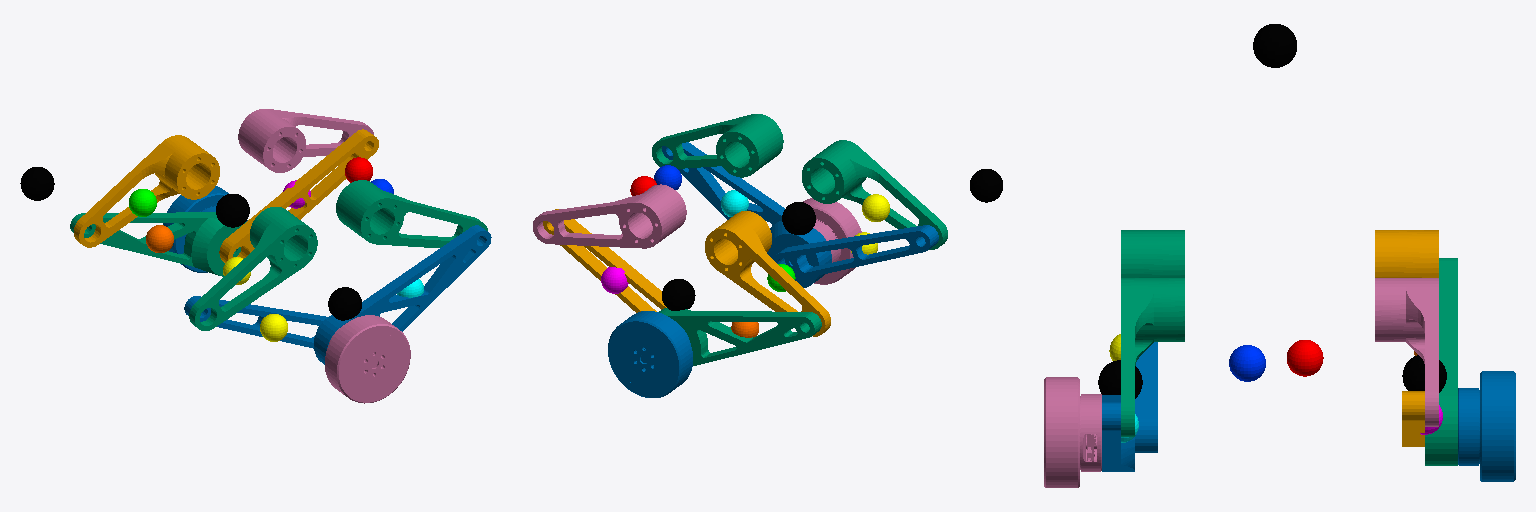
URDF robot description (wheel_leg_robot):
<?xml version="1.0"?>
<robot name="wheel_leg_robot">

  <!-- ================= materials ================= -->
  <material name="base_gray">
    <color rgba="0.65 0.65 0.65 1"/>
  </material>

  <material name="label_red">
    <color rgba="1 0 0 1"/>
  </material>

  <material name="label_green">
    <color rgba="0 1 0 1"/>
  </material>

  <material name="label_blue">
    <color rgba="0 0.25 1 1"/>
  </material>

  <material name="label_yellow">
    <color rgba="1 1 0 1"/>
  </material>

  <material name="label_magenta">
    <color rgba="1 0 1 1"/>
  </material>

  <material name="label_cyan">
    <color rgba="0 1 1 1"/>
  </material>

  <material name="label_orange">
    <color rgba="1 0.45 0 1"/>
  </material>

  <material name="label_black">
    <color rgba="0.02 0.02 0.02 1"/>
  </material>


  <!-- ================= world ================= -->
<!-- ================= base ================= -->
  <link name="base_link">
    <visual>
      <origin xyz="0 0 0" rpy="0 1.5708 0"/>
      <geometry>
        <mesh filename="package://wheel_leg_description/meshes/visual/shell_and_big_motor.stl"
              scale="0.001 0.001 0.001"/>
      </geometry>
      <material name="base_gray"/>
    </visual>
  </link>
<!-- base label -->
  <link name="LABEL_0_BASE">
    <visual>
      <geometry>
        <sphere radius="0.012"/>
      </geometry>
      <material name="label_black"/>
    </visual>
  </link>

  <joint name="label_0_base_joint" type="fixed">
    <parent link="base_link"/>
    <child link="LABEL_0_BASE"/>
    <origin xyz="0 0 0.080" rpy="0 0 0"/>
  </joint>


  <!-- ========================================================= -->
  <!-- big_arm_1_joint: blue big arm -> cyan small_leg_wheel_2 -> wheel_motor_2 -->
  <!-- ========================================================= -->

  <link name="big_arm_1_link">
    <visual>
      <origin xyz="-0.231306 -0.053564 -0.030643" rpy="0 1.5708 0"/>
      <geometry>
        <mesh filename="package://wheel_leg_description/meshes/visual/big_arm_1.stl"
              scale="0.001 0.001 0.001"/>
      </geometry>
    </visual>
  </link>

  <joint name="big_arm_1_joint" type="revolute">
    <parent link="base_link"/>
    <child link="big_arm_1_link"/>
    <origin xyz="0.231306 0.053564 0.030643" rpy="0 0 0"/>
    <axis xyz="0 1 0"/>
    <limit lower="-1.57" upper="1.57" effort="20" velocity="10"/>
  </joint>

  <link name="LABEL_1_BLUE_BIG_ARM">
    <visual>
      <geometry>
        <sphere radius="0.010"/>
      </geometry>
      <material name="label_blue"/>
    </visual>
  </link>

  <joint name="label_1_blue_big_arm_joint" type="fixed">
    <parent link="big_arm_1_link"/>
    <child link="LABEL_1_BLUE_BIG_ARM"/>
    <origin xyz="0.037350 -0.068500 -0.014319" rpy="0 0 0"/>
  </joint>


  <link name="small_leg_wheel_2_link">
    <visual>
      <origin xyz="-0.306005 0.083436 -0.002006" rpy="0 1.5708 0"/>
      <geometry>
        <mesh filename="package://wheel_leg_description/meshes/visual/small_leg_wheel_2.stl"
              scale="0.001 0.001 0.001"/>
      </geometry>
    </visual>
  </link>

  <joint name="knee_1_joint" type="revolute">
    <parent link="big_arm_1_link"/>
    <child link="small_leg_wheel_2_link"/>
    <origin xyz="0.074699 -0.137000 -0.028637" rpy="0 0 0"/>
    <axis xyz="0 1 0"/>
    <limit lower="-2.5" upper="2.5" effort="20" velocity="10"/>
  </joint>

  <link name="LABEL_6_CYAN_SMALL_LEG_WHEEL">
    <visual>
      <geometry>
        <sphere radius="0.010"/>
      </geometry>
      <material name="label_cyan"/>
    </visual>
  </link>

  <joint name="label_6_cyan_small_leg_wheel_joint" type="fixed">
    <parent link="small_leg_wheel_2_link"/>
    <child link="LABEL_6_CYAN_SMALL_LEG_WHEEL"/>
    <origin xyz="-0.052399 0 -0.029230" rpy="0 0 0"/>
  </joint>


  <link name="wheel_motor_2_link">
    <visual>
      <origin xyz="-0.201207 0.083436 0.056453" rpy="0 1.5708 0"/>
      <geometry>
        <mesh filename="package://wheel_leg_description/meshes/visual/wheel_motor_2.stl"
              scale="0.001 0.001 0.001"/>
      </geometry>
    </visual>
  </link>

  <joint name="wheel_2_joint" type="continuous">
    <parent link="small_leg_wheel_2_link"/>
    <child link="wheel_motor_2_link"/>
    <origin xyz="-0.104798 0 -0.058459" rpy="0 0 0"/>
    <axis xyz="0 1 0"/>
  </joint>

  <link name="LABEL_10_BLACK_WHEEL_MOTOR">
    <visual>
      <geometry>
        <sphere radius="0.012"/>
      </geometry>
      <material name="label_black"/>
    </visual>
  </link>

  <joint name="label_10_black_wheel_motor_joint" type="fixed">
    <parent link="wheel_motor_2_link"/>
    <child link="LABEL_10_BLACK_WHEEL_MOTOR"/>
    <origin xyz="0 0 0.030" rpy="0 0 0"/>
  </joint>


  <!-- ========================================================= -->
  <!-- big_arm_2_joint: green big arm -> orange small_leg_wheel_1 -> wheel_motor_1 -->
  <!-- ========================================================= -->

  <link name="big_arm_2_link">
    <visual>
      <origin xyz="-0.161440 -0.053564 -0.026313" rpy="0 1.5708 0"/>
      <geometry>
        <mesh filename="package://wheel_leg_description/meshes/visual/big_arm_2.stl"
              scale="0.001 0.001 0.001"/>
      </geometry>
    </visual>
  </link>

  <joint name="big_arm_2_joint" type="revolute">
    <parent link="base_link"/>
    <child link="big_arm_2_link"/>
    <origin xyz="0.161440 0.053564 0.026313" rpy="0 0 0"/>
    <axis xyz="0 1 0"/>
    <limit lower="-1.57" upper="1.57" effort="20" velocity="10"/>
  </joint>

  <link name="LABEL_2_GREEN_BIG_ARM">
    <visual>
      <geometry>
        <sphere radius="0.010"/>
      </geometry>
      <material name="label_green"/>
    </visual>
  </link>

  <joint name="label_2_green_big_arm_joint" type="fixed">
    <parent link="big_arm_2_link"/>
    <child link="LABEL_2_GREEN_BIG_ARM"/>
    <origin xyz="-0.035071 0.017500 -0.019237" rpy="0 0 0"/>
  </joint>


  <link name="small_leg_wheel_1_link">
    <visual>
      <origin xyz="-0.091299 -0.088564 0.012160" rpy="0 1.5708 0"/>
      <geometry>
        <mesh filename="package://wheel_leg_description/meshes/visual/small_leg_wheel_1.stl"
              scale="0.001 0.001 0.001"/>
      </geometry>
    </visual>
  </link>

  <joint name="knee_2_joint" type="revolute">
    <parent link="big_arm_2_link"/>
    <child link="small_leg_wheel_1_link"/>
    <origin xyz="-0.070141 0.035000 -0.038473" rpy="0 0 0"/>
    <axis xyz="0 1 0"/>
    <limit lower="-2.5" upper="2.5" effort="20" velocity="10"/>
  </joint>

  <link name="LABEL_5_ORANGE_SMALL_LEG_WHEEL">
    <visual>
      <geometry>
        <sphere radius="0.010"/>
      </geometry>
      <material name="label_orange"/>
    </visual>
  </link>

  <joint name="label_5_orange_small_leg_wheel_joint" type="fixed">
    <parent link="small_leg_wheel_1_link"/>
    <child link="LABEL_5_ORANGE_SMALL_LEG_WHEEL"/>
    <origin xyz="0.056761 -0.004000 -0.019449" rpy="0 0 0"/>
  </joint>


  <link name="wheel_motor_1_link">
    <visual>
      <origin xyz="-0.204820 -0.080564 0.051057" rpy="0 1.5708 0"/>
      <geometry>
        <mesh filename="package://wheel_leg_description/meshes/visual/wheel_motor_1.stl"
              scale="0.001 0.001 0.001"/>
      </geometry>
    </visual>
  </link>

  <joint name="wheel_1_joint" type="continuous">
    <parent link="small_leg_wheel_1_link"/>
    <child link="wheel_motor_1_link"/>
    <origin xyz="0.113521 -0.008000 -0.038897" rpy="0 0 0"/>
    <axis xyz="0 1 0"/>
  </joint>

  <link name="LABEL_9_BLACK_WHEEL_MOTOR">
    <visual>
      <geometry>
        <sphere radius="0.012"/>
      </geometry>
      <material name="label_black"/>
    </visual>
  </link>

  <joint name="label_9_black_wheel_motor_joint" type="fixed">
    <parent link="wheel_motor_1_link"/>
    <child link="LABEL_9_BLACK_WHEEL_MOTOR"/>
    <origin xyz="0 0 0.030" rpy="0 0 0"/>
  </joint>


  <!-- ========================================================= -->
  <!-- big_arm_3_joint: red big arm -> magenta small_leggy_1 -->
  <!-- ========================================================= -->

  <link name="big_arm_3_link">
    <visual>
      <origin xyz="-0.231306 0.048436 -0.030643" rpy="0 1.5708 0"/>
      <geometry>
        <mesh filename="package://wheel_leg_description/meshes/visual/big_arm_3.stl"
              scale="0.001 0.001 0.001"/>
      </geometry>
    </visual>
  </link>

  <joint name="big_arm_3_joint" type="revolute">
    <parent link="base_link"/>
    <child link="big_arm_3_link"/>
    <origin xyz="0.231306 -0.048436 0.030643" rpy="0 0 0"/>
    <axis xyz="0 1 0"/>
    <limit lower="-1.57" upper="1.57" effort="20" velocity="10"/>
  </joint>

  <link name="LABEL_3_RED_BIG_ARM">
    <visual>
      <geometry>
        <sphere radius="0.010"/>
      </geometry>
      <material name="label_red"/>
    </visual>
  </link>

  <joint name="label_3_red_big_arm_joint" type="fixed">
    <parent link="big_arm_3_link"/>
    <child link="LABEL_3_RED_BIG_ARM"/>
    <origin xyz="0.038571 0.064500 -0.010596" rpy="0 0 0"/>
  </joint>


  <link name="small_leggy_1_link">
    <visual>
      <origin xyz="-0.308448 -0.080564 -0.009451" rpy="0 1.5708 0"/>
      <geometry>
        <mesh filename="package://wheel_leg_description/meshes/visual/small_leggy_1.stl"
              scale="0.001 0.001 0.001"/>
      </geometry>
    </visual>
  </link>

  <joint name="knee_3_joint" type="revolute">
    <parent link="big_arm_3_link"/>
    <child link="small_leggy_1_link"/>
    <origin xyz="0.077142 0.129000 -0.021192" rpy="0 0 0"/>
    <axis xyz="0 1 0"/>
    <limit lower="-2.5" upper="2.5" effort="20" velocity="10"/>
  </joint>

  <link name="LABEL_7_MAGENTA_SMALL_LEGGY">
    <visual>
      <geometry>
        <sphere radius="0.010"/>
      </geometry>
      <material name="label_magenta"/>
    </visual>
  </link>

  <joint name="label_7_magenta_small_leggy_joint" type="fixed">
    <parent link="small_leggy_1_link"/>
    <child link="LABEL_7_MAGENTA_SMALL_LEGGY"/>
    <origin xyz="-0.051814 0 -0.030254" rpy="0 0 0"/>
  </joint>


  <!-- ========================================================= -->
  <!-- big_arm_4_joint: yellow big arm -> yellow small_leggy_2 -->
  <!-- ========================================================= -->

  <link name="big_arm_4_link">
    <visual>
      <origin xyz="-0.161440 0.048436 -0.026313" rpy="0 1.5708 0"/>
      <geometry>
        <mesh filename="package://wheel_leg_description/meshes/visual/big_arm_4.stl"
              scale="0.001 0.001 0.001"/>
      </geometry>
    </visual>
  </link>

  <joint name="big_arm_4_joint" type="revolute">
    <parent link="base_link"/>
    <child link="big_arm_4_link"/>
    <origin xyz="0.161440 -0.048436 0.026313" rpy="0 0 0"/>
    <axis xyz="0 1 0"/>
    <limit lower="-1.57" upper="1.57" effort="20" velocity="10"/>
  </joint>

  <link name="LABEL_4_YELLOW_BIG_ARM">
    <visual>
      <geometry>
        <sphere radius="0.010"/>
      </geometry>
      <material name="label_yellow"/>
    </visual>
  </link>

  <joint name="label_4_yellow_big_arm_joint" type="fixed">
    <parent link="big_arm_4_link"/>
    <child link="LABEL_4_YELLOW_BIG_ARM"/>
    <origin xyz="-0.035530 -0.013500 -0.018375" rpy="0 0 0"/>
  </joint>


  <link name="small_leggy_2_link">
    <visual>
      <origin xyz="-0.090381 0.075436 0.010437" rpy="0 1.5708 0"/>
      <geometry>
        <mesh filename="package://wheel_leg_description/meshes/visual/small_leggy_2.stl"
              scale="0.001 0.001 0.001"/>
      </geometry>
    </visual>
  </link>

  <joint name="knee_4_joint" type="revolute">
    <parent link="big_arm_4_link"/>
    <child link="small_leggy_2_link"/>
    <origin xyz="-0.071059 -0.027000 -0.036750" rpy="0 0 0"/>
    <axis xyz="0 1 0"/>
    <limit lower="-2.5" upper="2.5" effort="20" velocity="10"/>
  </joint>

  <link name="LABEL_8_YELLOW_SMALL_LEGGY">
    <visual>
      <geometry>
        <sphere radius="0.010"/>
      </geometry>
      <material name="label_yellow"/>
    </visual>
  </link>

  <joint name="label_8_yellow_small_leggy_joint" type="fixed">
    <parent link="small_leggy_2_link"/>
    <child link="LABEL_8_YELLOW_SMALL_LEGGY"/>
    <origin xyz="0.055413 -0.004000 -0.023008" rpy="0 0 0"/>
  </joint>

</robot>

--- Render facts (derived) ---
The picture shows the robot from 3 angles, left to right: view 1: azimuth 30°, elevation 25°; view 2: azimuth 150°, elevation 25°; view 3: azimuth 270°, elevation 25°; orthographic projection.
Robot: wheel_leg_robot — 22 links, 21 joints (8 revolute, 2 continuous, 11 fixed); root link base_link; default pose: all joints at 0.
Links seen in each view (by area): view 1: big_arm_4_link, wheel_motor_2_link, big_arm_2_link, small_leg_wheel_2_link, big_arm_1_link, big_arm_3_link, small_leg_wheel_1_link, small_leggy_1_link, small_leggy_2_link, wheel_motor_1_link, LABEL_0_BASE, LABEL_9_BLACK_WHEEL_MOTOR (+5 smaller); view 2: wheel_motor_1_link, big_arm_3_link, big_arm_2_link, big_arm_4_link, big_arm_1_link, small_leg_wheel_1_link, small_leg_wheel_2_link, small_leggy_2_link, small_leggy_1_link, wheel_motor_2_link, LABEL_10_BLACK_WHEEL_MOTOR, LABEL_0_BASE (+4 smaller); view 3: wheel_motor_2_link, wheel_motor_1_link, big_arm_1_link, big_arm_3_link, small_leg_wheel_1_link, big_arm_2_link, big_arm_4_link, small_leggy_2_link, small_leg_wheel_2_link, LABEL_0_BASE, small_leggy_1_link, LABEL_1_BLUE_BIG_ARM (+3 smaller).
Boxes of the visible links, x1,y1,x2,y2 form: big_arm_4_link: (189, 207, 317, 330); wheel_motor_2_link: (325, 315, 410, 403); big_arm_2_link: (74, 135, 219, 247); small_leg_wheel_2_link: (314, 225, 491, 364); big_arm_1_link: (336, 180, 487, 247); big_arm_3_link: (238, 109, 373, 172); small_leg_wheel_1_link: (70, 212, 245, 276); small_leggy_1_link: (219, 129, 378, 262); small_leggy_2_link: (184, 296, 327, 348); wheel_motor_1_link: (163, 186, 247, 272); LABEL_0_BASE: (20, 167, 54, 200); LABEL_9_BLACK_WHEEL_MOTOR: (216, 194, 249, 227); wheel_motor_1_link: (608, 311, 692, 397); big_arm_3_link: (533, 184, 686, 248); big_arm_2_link: (705, 211, 830, 336); big_arm_4_link: (802, 140, 947, 249); big_arm_1_link: (652, 114, 783, 177); small_leg_wheel_1_link: (659, 308, 821, 365); small_leg_wheel_2_link: (662, 142, 831, 287); small_leggy_2_link: (773, 225, 938, 280); small_leggy_1_link: (543, 209, 666, 312); wheel_motor_2_link: (803, 198, 861, 284); LABEL_10_BLACK_WHEEL_MOTOR: (782, 202, 815, 234); LABEL_0_BASE: (970, 169, 1002, 202); wheel_motor_2_link: (1044, 377, 1101, 487); wheel_motor_1_link: (1458, 371, 1515, 481); big_arm_1_link: (1121, 278, 1184, 436); big_arm_3_link: (1375, 278, 1438, 426); small_leg_wheel_1_link: (1425, 258, 1457, 465); big_arm_2_link: (1375, 230, 1438, 277); big_arm_4_link: (1121, 230, 1184, 277); small_leggy_2_link: (1135, 342, 1157, 452); small_leg_wheel_2_link: (1102, 395, 1134, 471); LABEL_0_BASE: (1253, 24, 1296, 67); small_leggy_1_link: (1402, 391, 1424, 446); LABEL_1_BLUE_BIG_ARM: (1229, 345, 1265, 381).
Size in the robot's own frame: 0.3314 by 0.254 by 0.1784 metres.
10 mesh visuals loaded from 11 distinct referenced files (10 binary STL); not drawn: 1 (reference not matched to a file when rendering).
